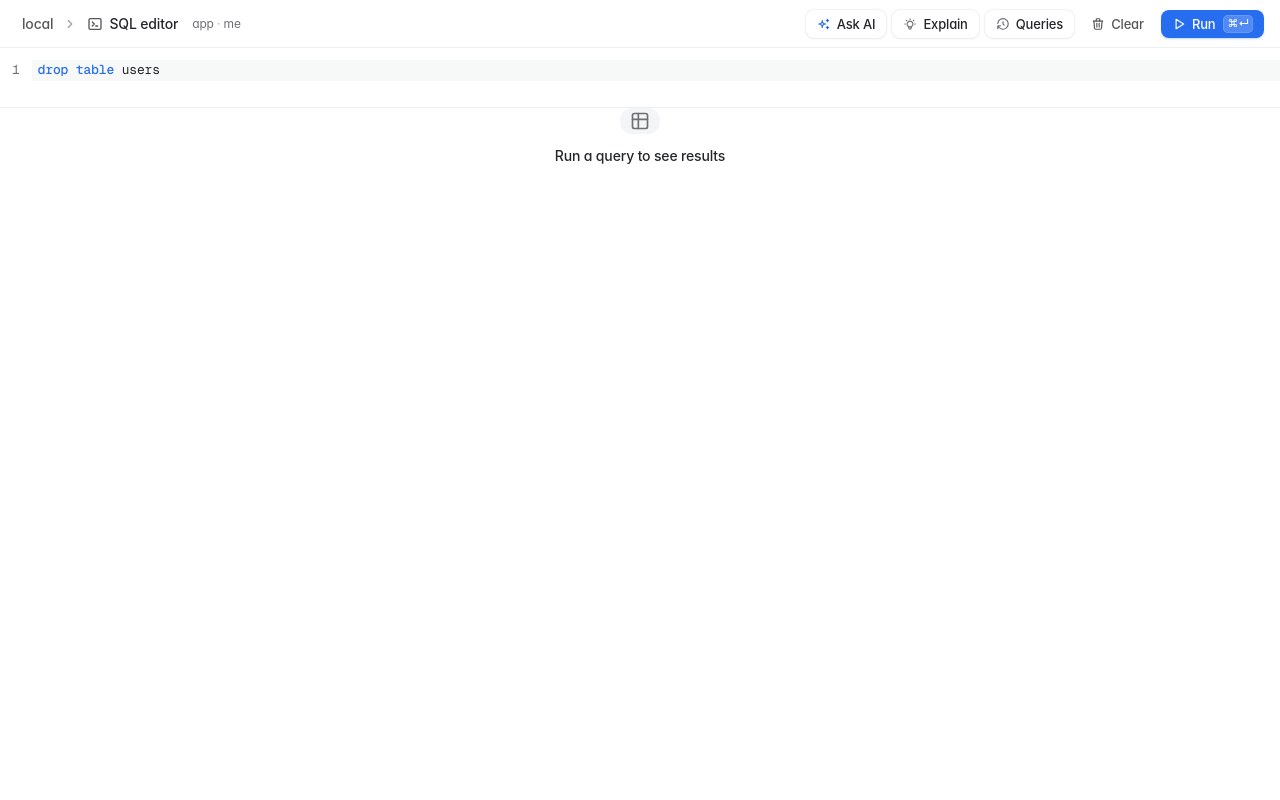
Test: running a destructive query › abandons the run when dismissed
This screenshot has width=1280, height=800.
expect the element with test id "sql-editor" is shown: met, box [0,48,1279,107]
Press Enter in the field labelled "drop table users", box [32,60,1279,81]
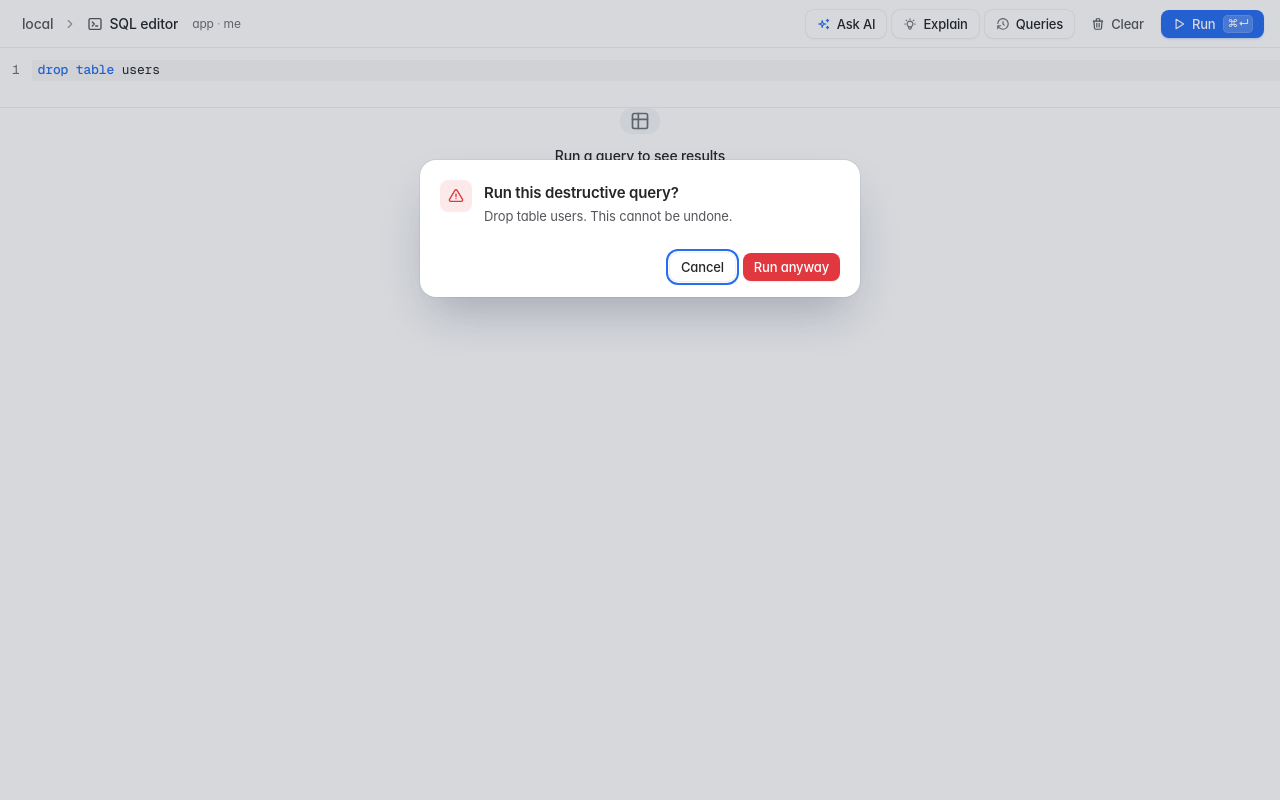
Click the button "Cancel" at (702, 267), box [670,253,735,281]
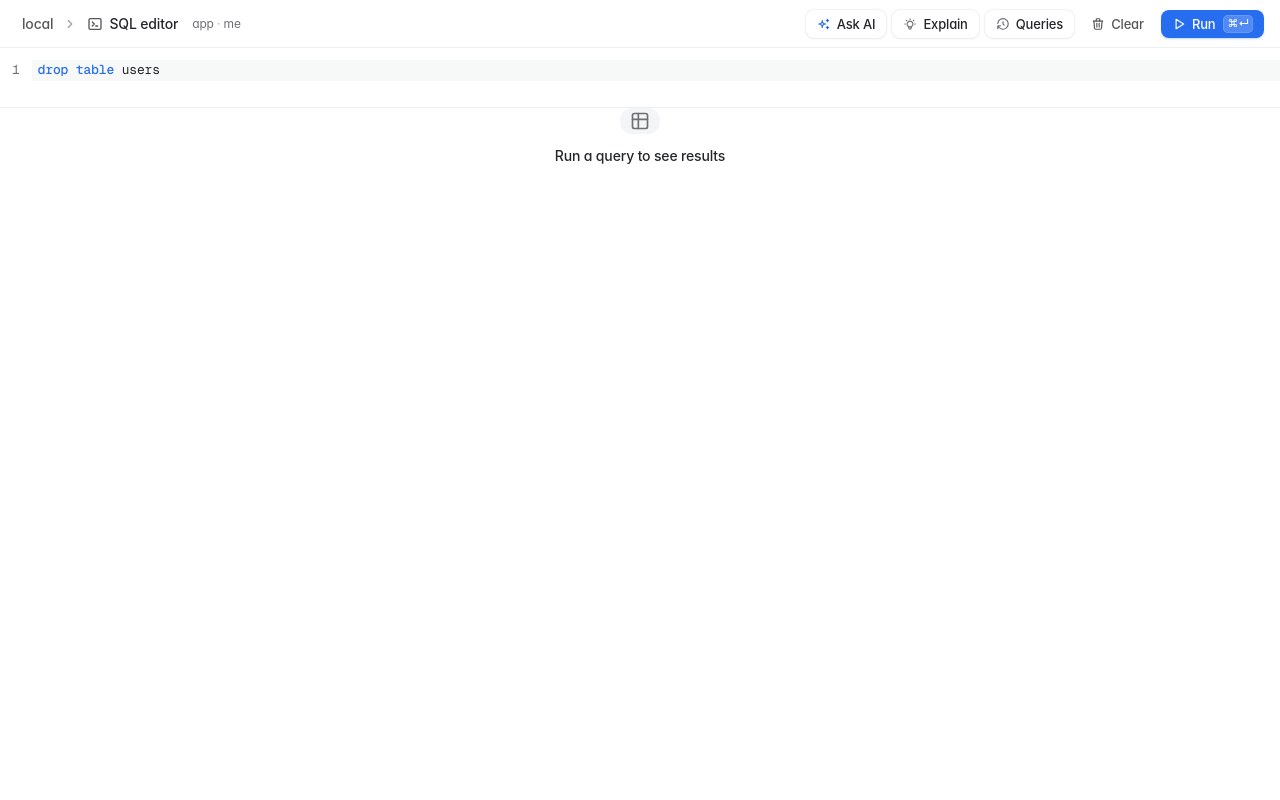
expect the heading "Run this destructive" is gone: met
